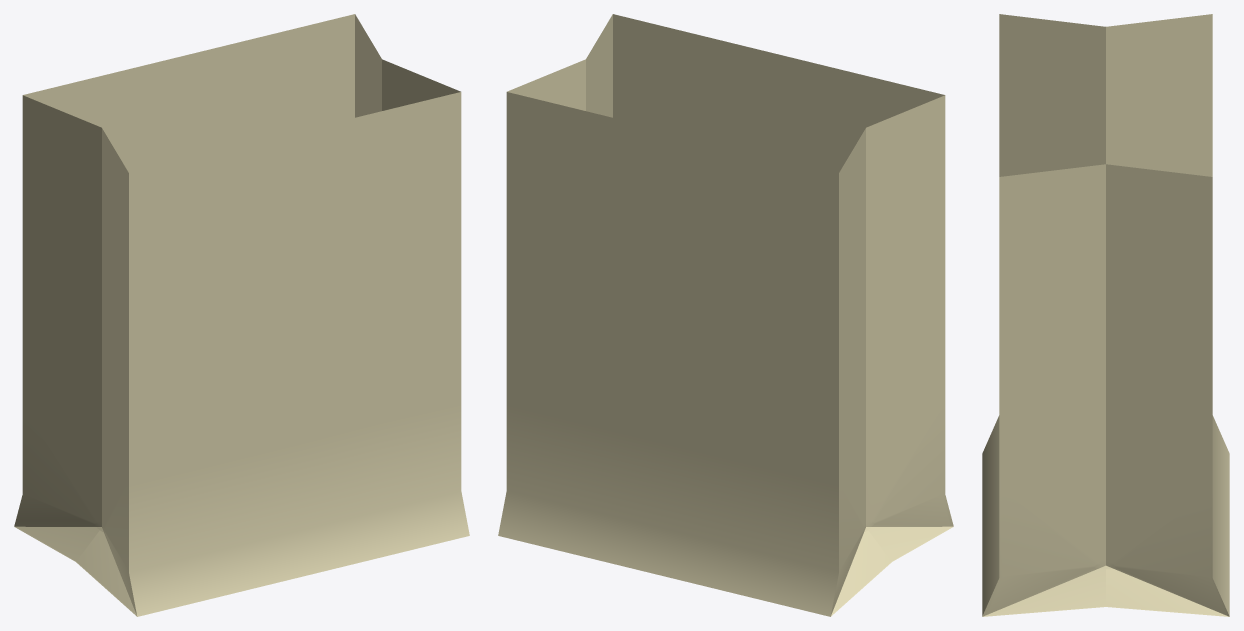
File: seed_bag.fbx
The picture shows the model from 3 angles, left to right: view 1: azimuth 30°, elevation 25°; view 2: azimuth 150°, elevation 25°; view 3: azimuth 270°, elevation 25°; orthographic projection.
Parts seen in each view (by area): view 1: pCube1; view 2: pCube1; view 3: pCube1.
Boxes of the visible parts, x1,y1,x2,y2 form: pCube1: [14, 14, 469, 616]; pCube1: [498, 14, 953, 616]; pCube1: [982, 14, 1229, 616].
Size of the model in its own units: 1.84 by 2.31 by 1.18.
